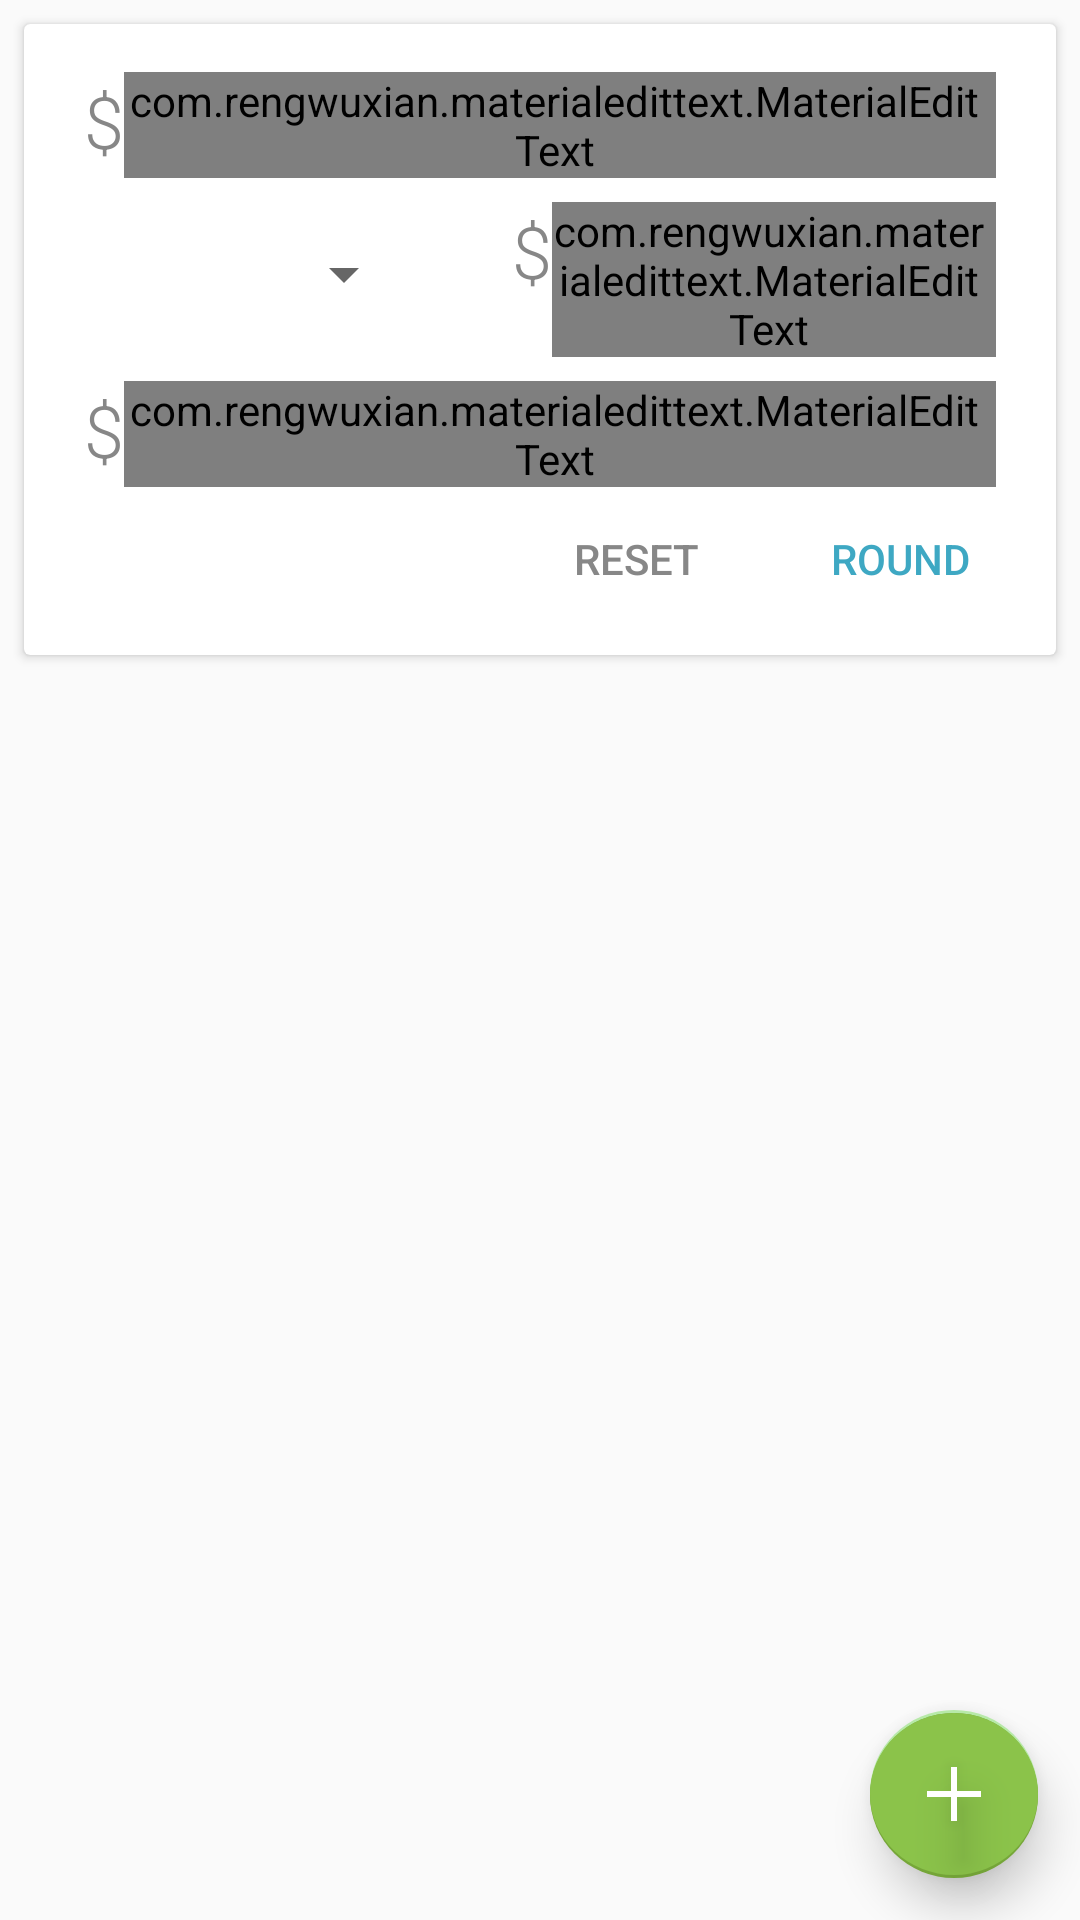

Screen size 1080w x 1920h. Icon name, then its center in pixels as [x,y]:
fab plus: [954,1794]
